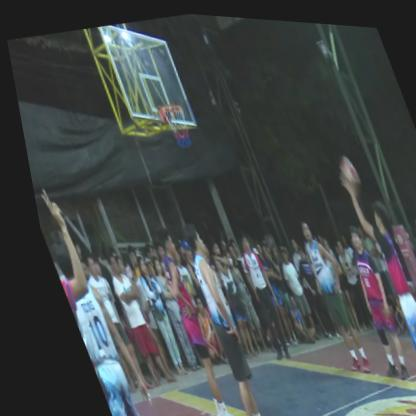basketball: (326, 144, 359, 192)
rim: (146, 84, 200, 155)
